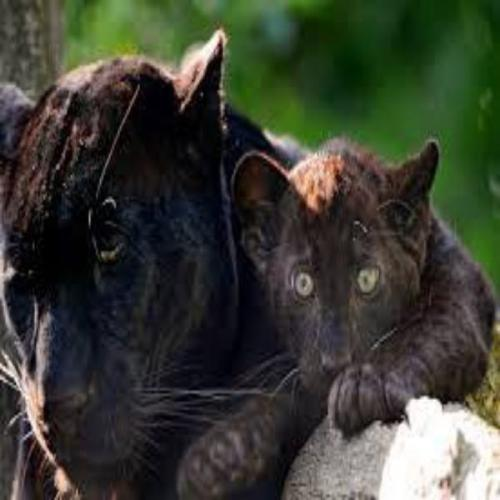panther-endangered: (0, 26, 296, 500), (168, 133, 500, 500)
